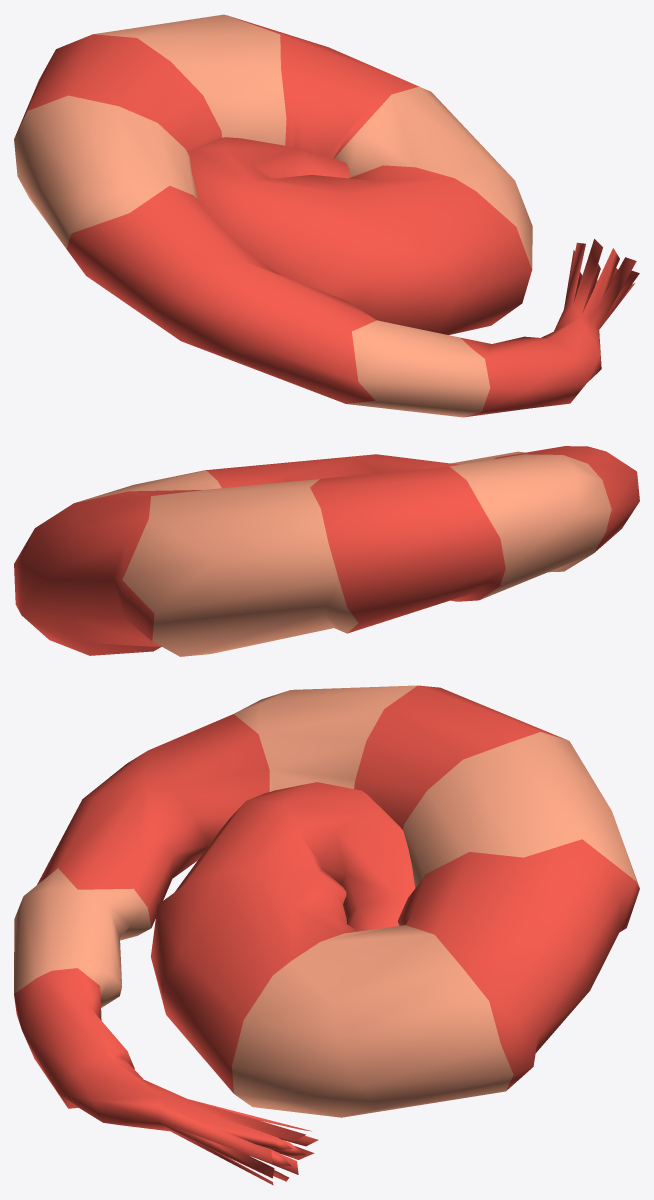
Rendered from Food (9).fbx.
3 views of the same model, one above another, from view 1: azimuth 30°, elevation 25°; view 2: azimuth 150°, elevation 25°; view 3: azimuth 270°, elevation 25° (orthographic).
Parts seen in each view (by area): view 1: Cube.036; view 2: Cube.036; view 3: Cube.036.
Boxes of the visible parts, x1,y1,x2,y2 form: Cube.036: [14, 14, 639, 417]; Cube.036: [14, 446, 639, 656]; Cube.036: [14, 685, 639, 1184].
Bounding box in the file's own units: 6.68 × 2.93 × 6.3.
